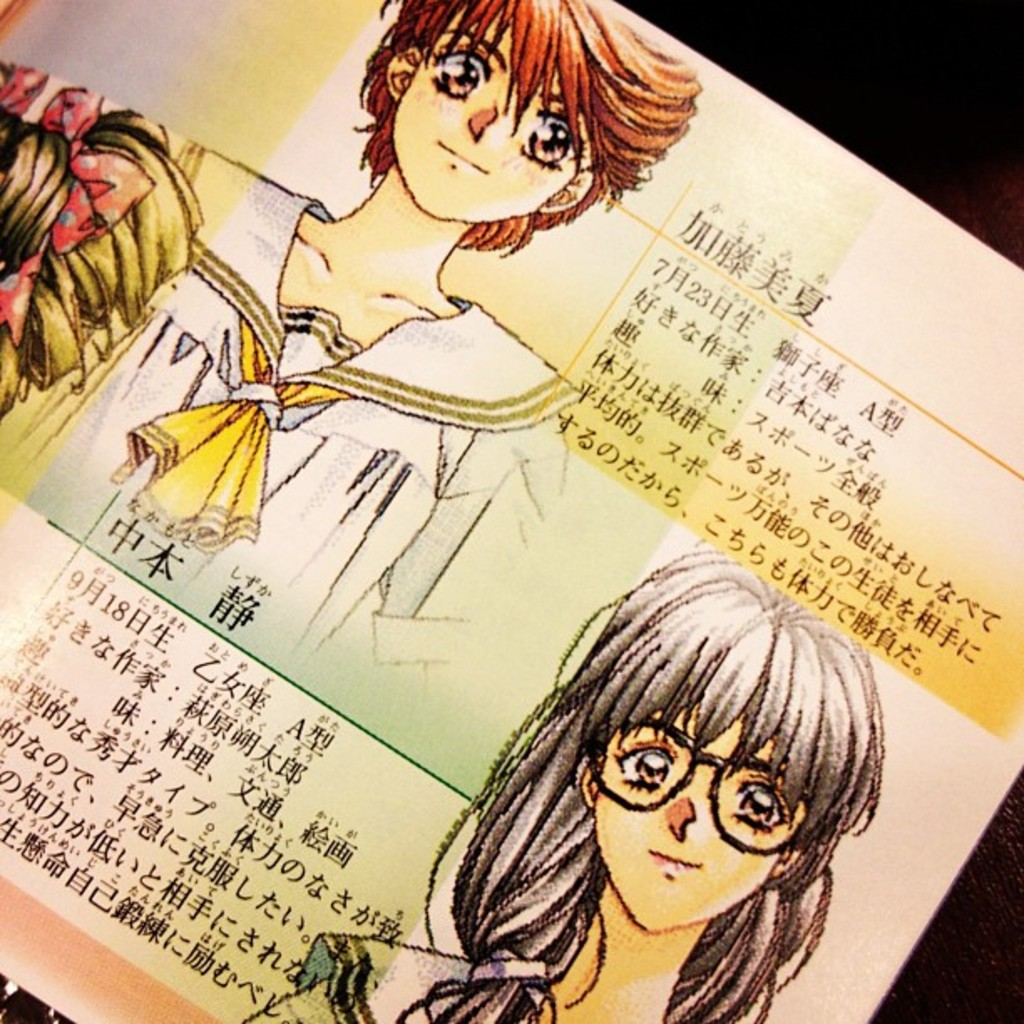Person: (0, 0, 702, 698)
